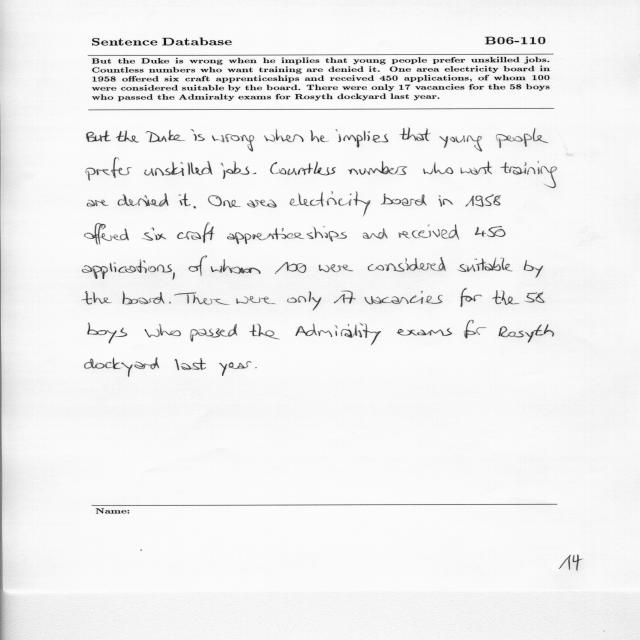word: (227, 226, 347, 244), (290, 191, 371, 216), (296, 324, 382, 346), (82, 259, 172, 279), (500, 161, 557, 188), (85, 357, 159, 377), (368, 257, 446, 272), (499, 324, 554, 343), (497, 128, 549, 148), (87, 158, 132, 181), (144, 161, 213, 176), (365, 291, 443, 304), (336, 129, 389, 147), (84, 223, 129, 244), (399, 225, 459, 240), (270, 162, 336, 175), (191, 324, 238, 342), (348, 161, 407, 175), (88, 323, 128, 343), (177, 222, 214, 243), (458, 258, 513, 272), (211, 259, 261, 274), (174, 292, 229, 305), (212, 134, 254, 151), (440, 135, 482, 152), (118, 193, 169, 207), (287, 291, 321, 311), (123, 292, 165, 305), (381, 194, 426, 206), (264, 129, 304, 142), (221, 161, 249, 179), (219, 361, 251, 376), (146, 130, 185, 142), (465, 194, 501, 207), (145, 324, 181, 337), (249, 324, 280, 339), (461, 161, 493, 175), (397, 328, 453, 336), (208, 195, 241, 208), (460, 288, 482, 307), (399, 128, 431, 141), (493, 290, 520, 305), (464, 320, 486, 338), (82, 291, 112, 304), (189, 256, 208, 276), (275, 262, 306, 274), (175, 358, 206, 370), (423, 163, 453, 175), (524, 260, 543, 278), (475, 226, 506, 237), (142, 228, 167, 241), (236, 296, 276, 304), (86, 130, 111, 142), (334, 291, 356, 304), (116, 131, 139, 143), (363, 229, 388, 240), (319, 264, 353, 272), (247, 199, 277, 208), (310, 130, 329, 142), (525, 292, 545, 303), (191, 129, 205, 141), (87, 200, 109, 207), (439, 196, 453, 207), (179, 193, 190, 206), (172, 272, 175, 280), (194, 206, 197, 209), (169, 301, 171, 304), (253, 173, 257, 174), (255, 367, 257, 368)
